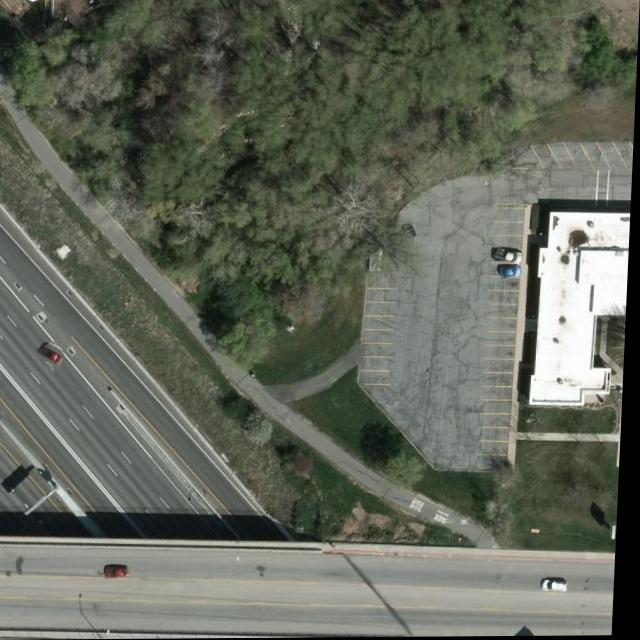vehicle: (42, 342, 70, 369), (496, 251, 527, 265), (501, 265, 525, 280), (110, 567, 136, 579), (547, 582, 575, 593)
